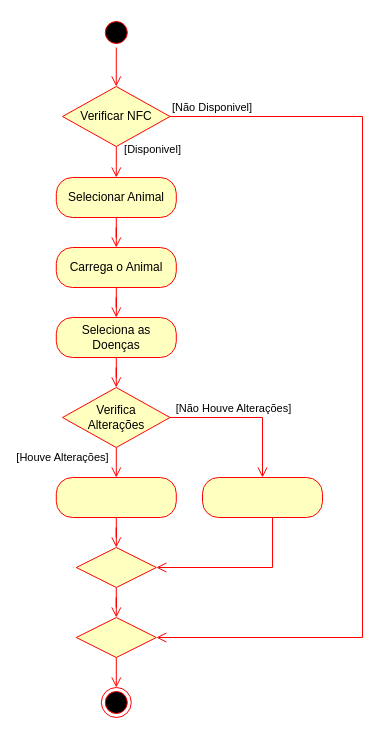
Image size: 391x735. Some labels were removed from this diagram. The centre of each missing label's shape, as x and y in pixels:
Mantem Configuração Salva: the point at 262,497
Salva a nova Configuração: the point at 115,497
